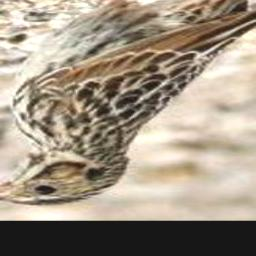Sparrow: (0, 0, 256, 208)
